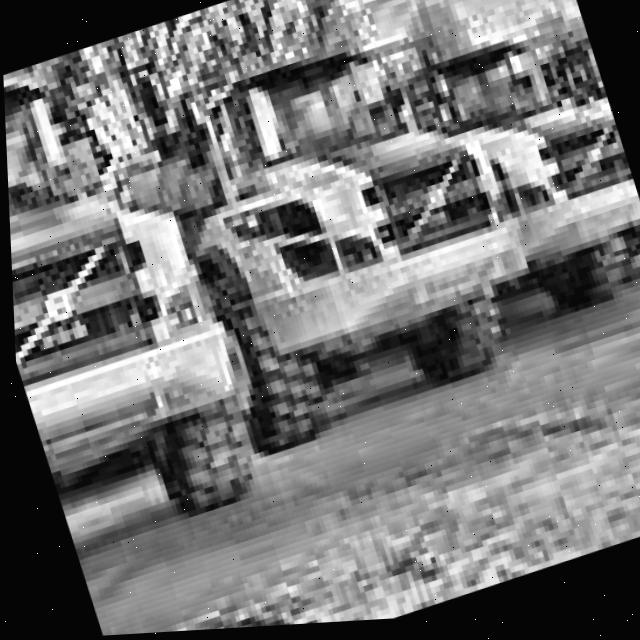dump_truck: (141, 0, 563, 499), (1, 28, 275, 568), (415, 0, 640, 356)
